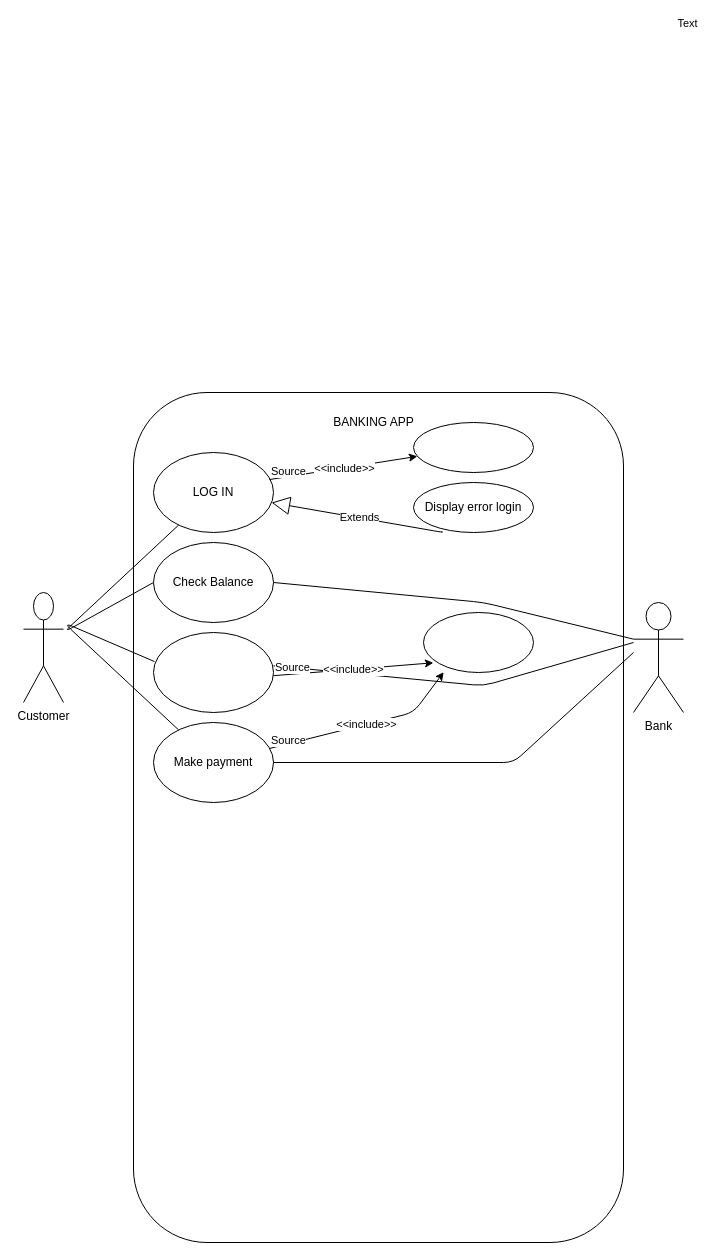
The diagram is 715 pixels wide and 1260 high, and some of its shapes have lost their labels. Here are the shapes that lost their labels. From the top down, the box of each, then its label:
(412, 422, 534, 472): Verify passwords
(422, 612, 534, 672): Verify sufficient amount
(152, 632, 274, 712): Transfer funds
